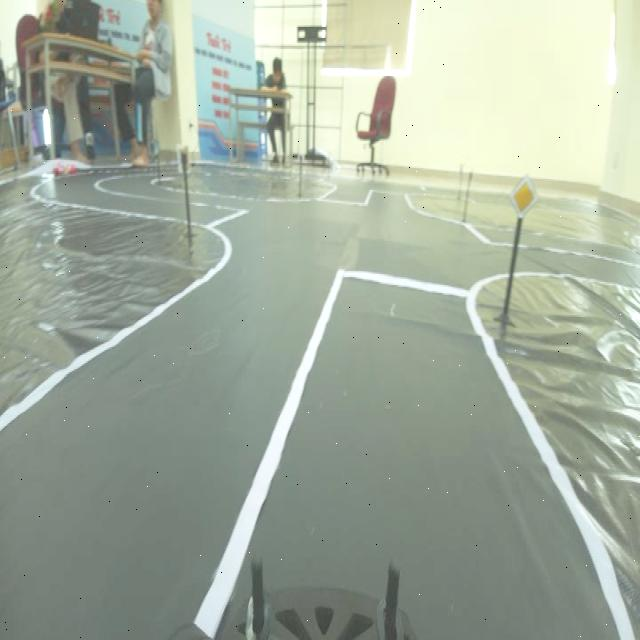priority: (501, 162, 543, 228)
